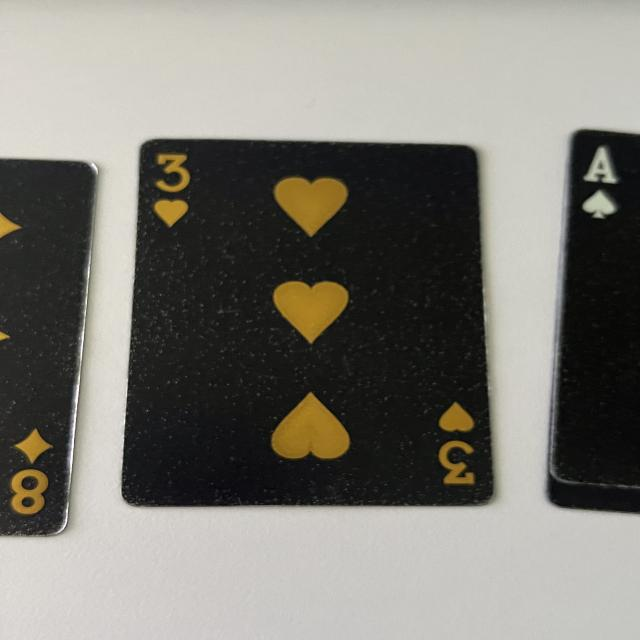3H: (431, 395, 491, 494), (150, 140, 204, 235)
4S: (575, 140, 623, 228)
8D: (3, 422, 59, 521)
